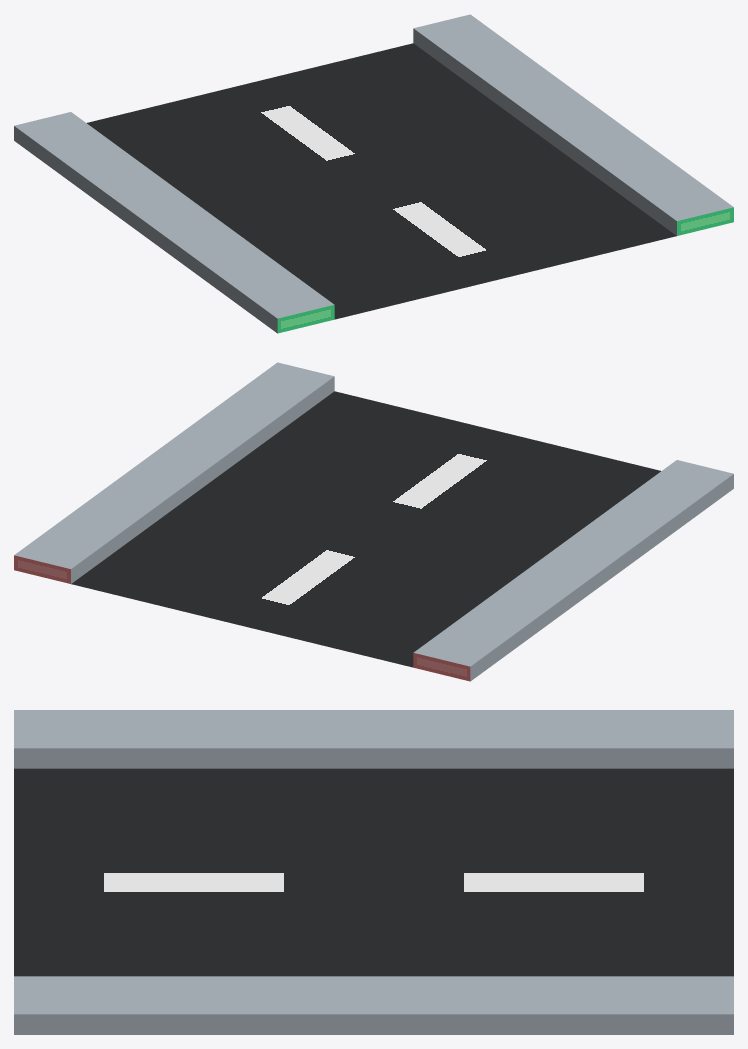
Rendered from Road-y.43b84893.gltf.
3 renders of one model, top to bottom at view 1: azimuth 30°, elevation 25°; view 2: azimuth 150°, elevation 25°; view 3: azimuth 270°, elevation 25°, orthographic. The views are drawn at different scales.
Parts seen in each view (by area): view 1: Road, Sidewalk Left, Sidewalk Right; view 2: Road, Sidewalk Left, Sidewalk Right; view 3: Road, Sidewalk Left, Sidewalk Right.
Boxes of the visible parts, x1,y1,x2,y2 form: Road: (87, 43, 676, 319); Sidewalk Left: (14, 112, 334, 333); Sidewalk Right: (413, 14, 733, 235); Road: (71, 391, 660, 667); Sidewalk Left: (413, 460, 733, 681); Sidewalk Right: (14, 362, 334, 583); Road: (14, 768, 733, 976); Sidewalk Left: (14, 710, 733, 768); Sidewalk Right: (14, 976, 733, 1034).
Bounding box in the file's own units: 2 × 0.0625 × 2.
1 material, 1 textured.
